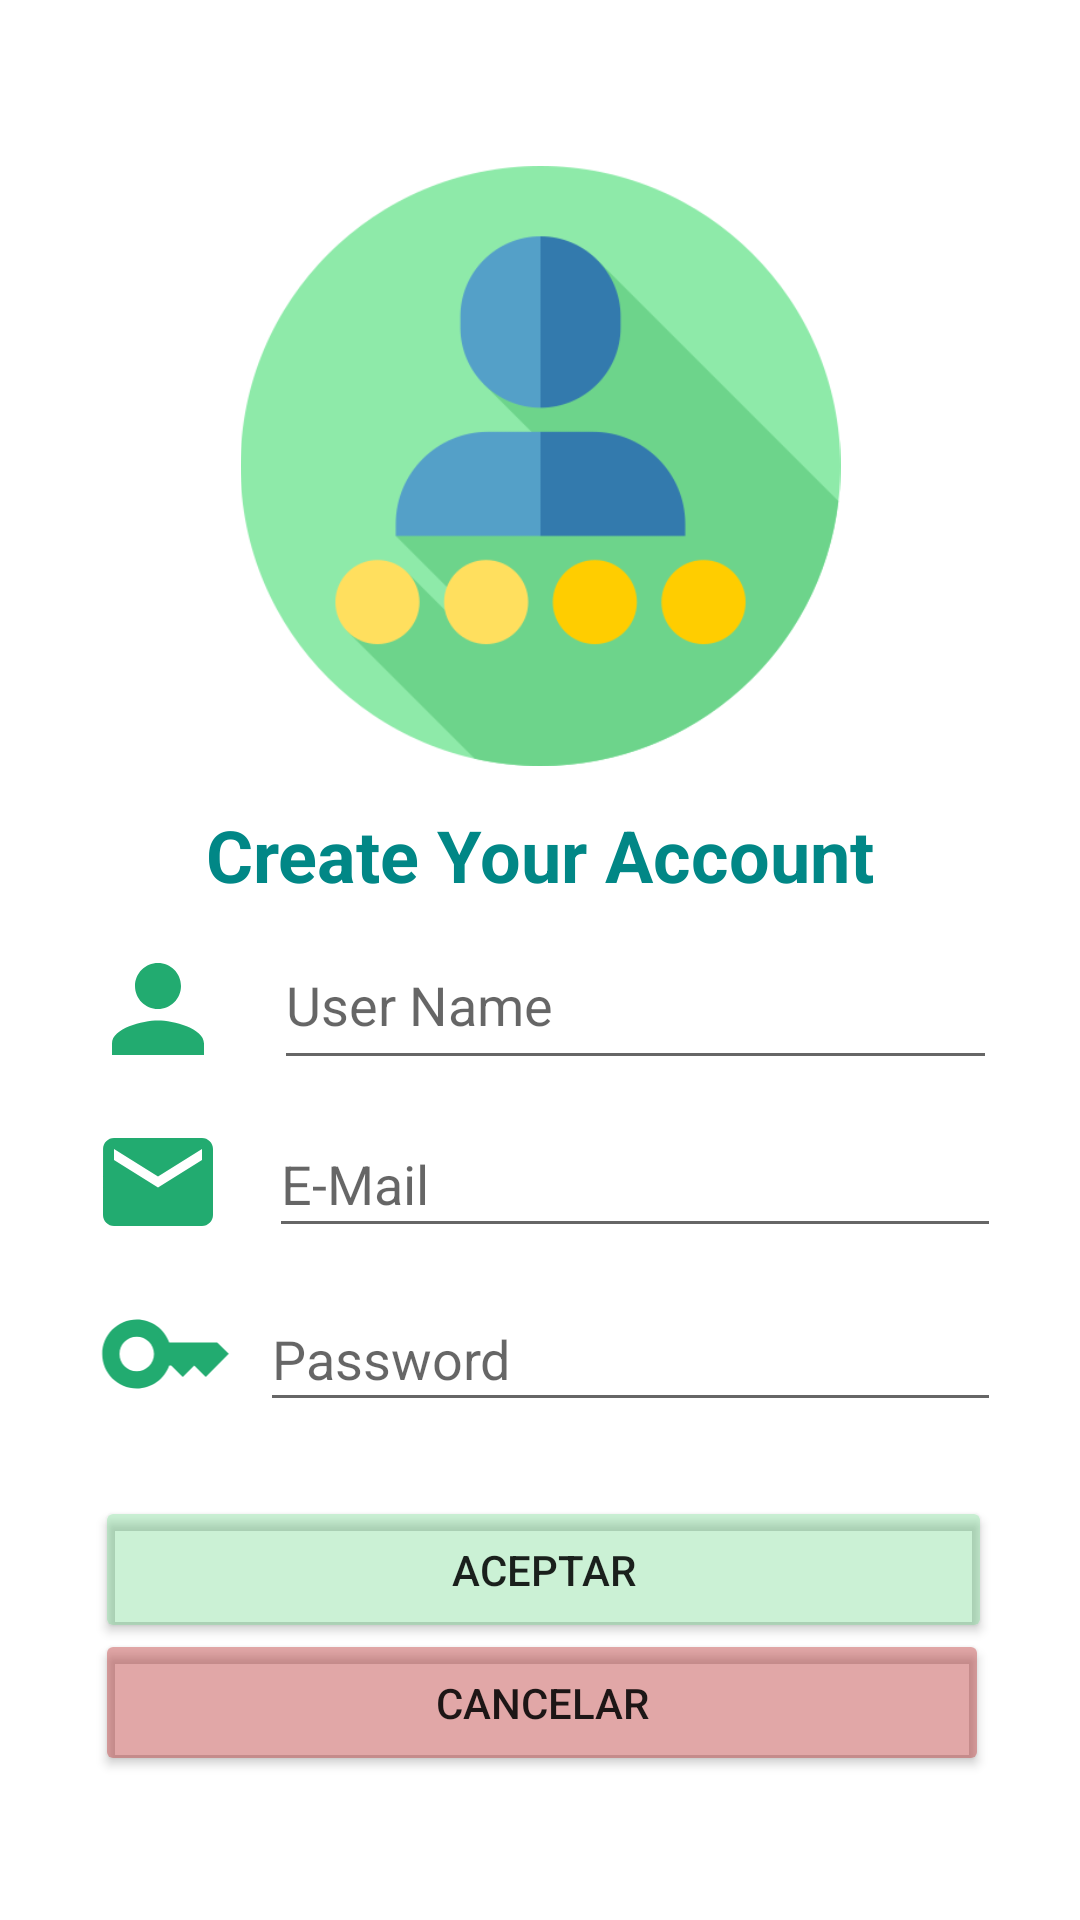

Icons on this 1080px×1920px Android screen, each with the point to tap as point (x, y):
key: point (165, 1354)
